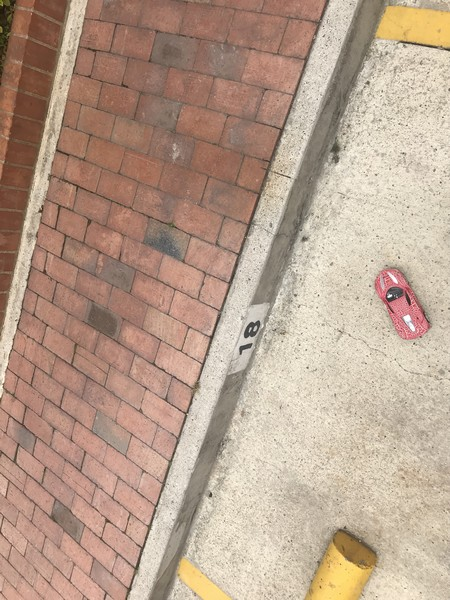RC: (373, 264, 434, 343)
